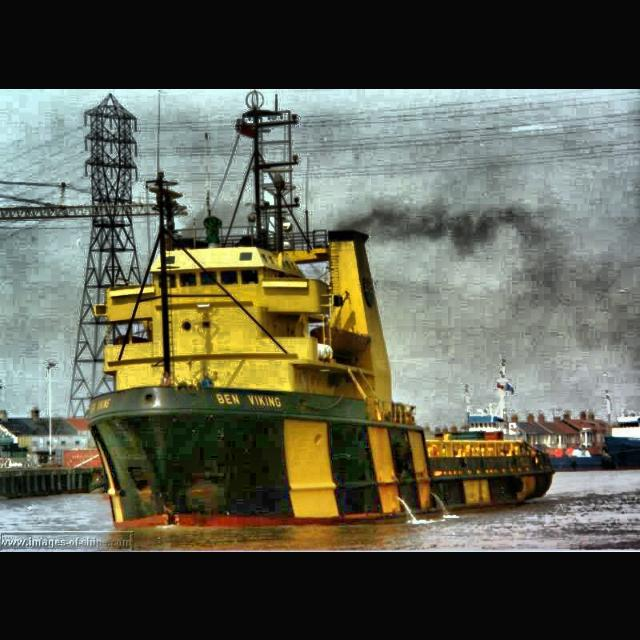anchor_handling_tug_supply: (82, 164, 558, 536)
